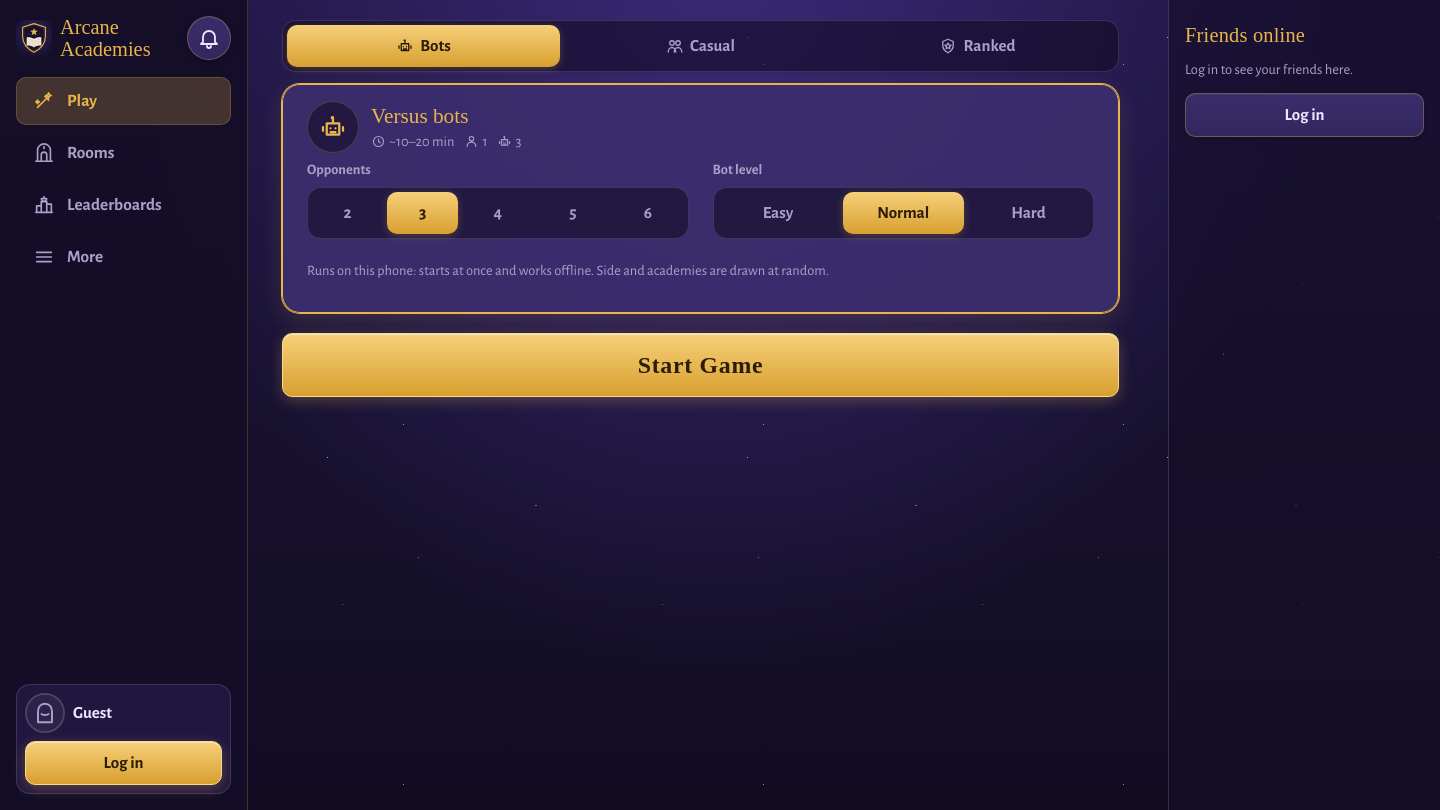
Test: Play tab › Bots: picks 4 opponents and Hard, starts offline with the side + academy draw
Click the radio button labelled "4": point(498, 213) [462,192,533,234]
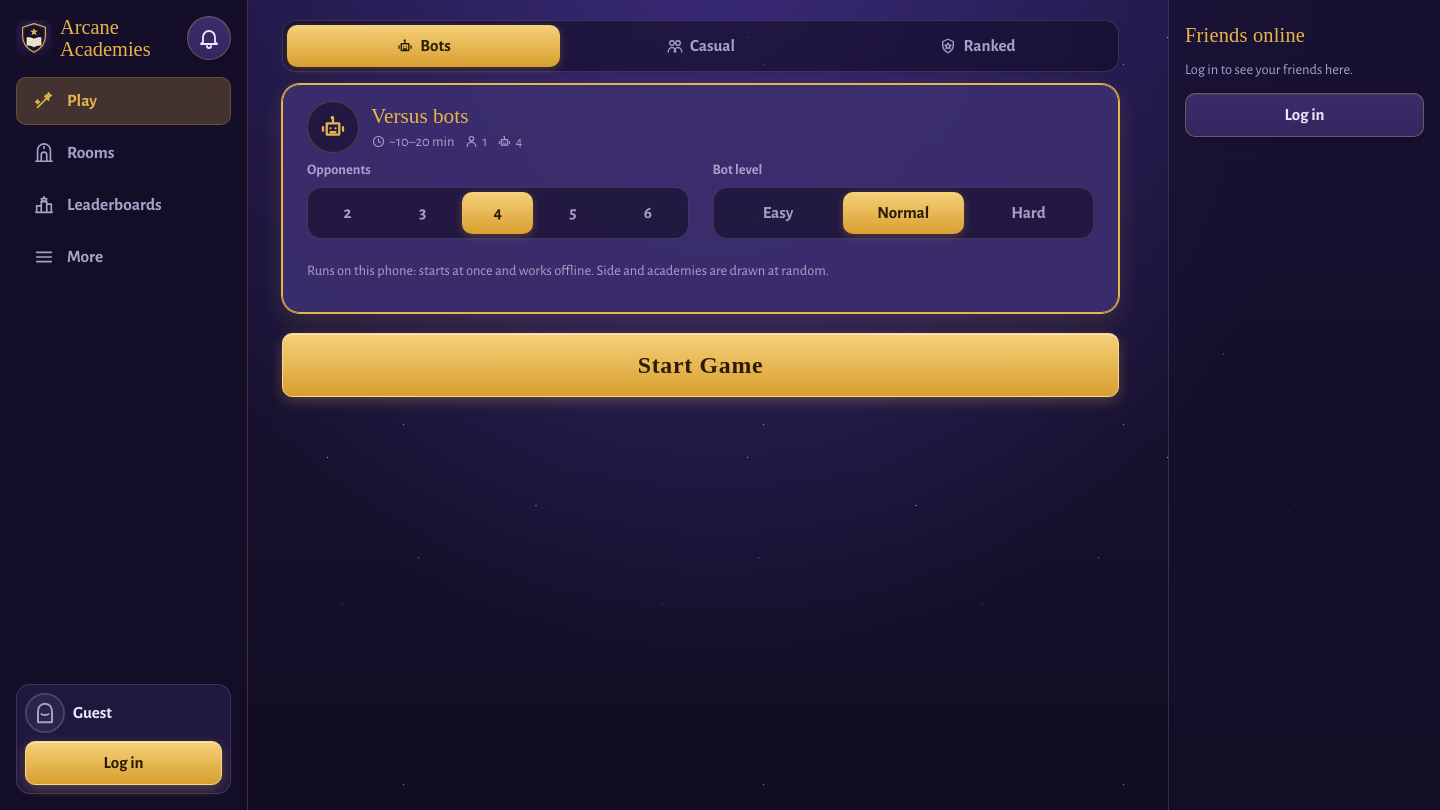
Click the radio button labelled "Hard": point(1028, 213) [968,192,1089,234]
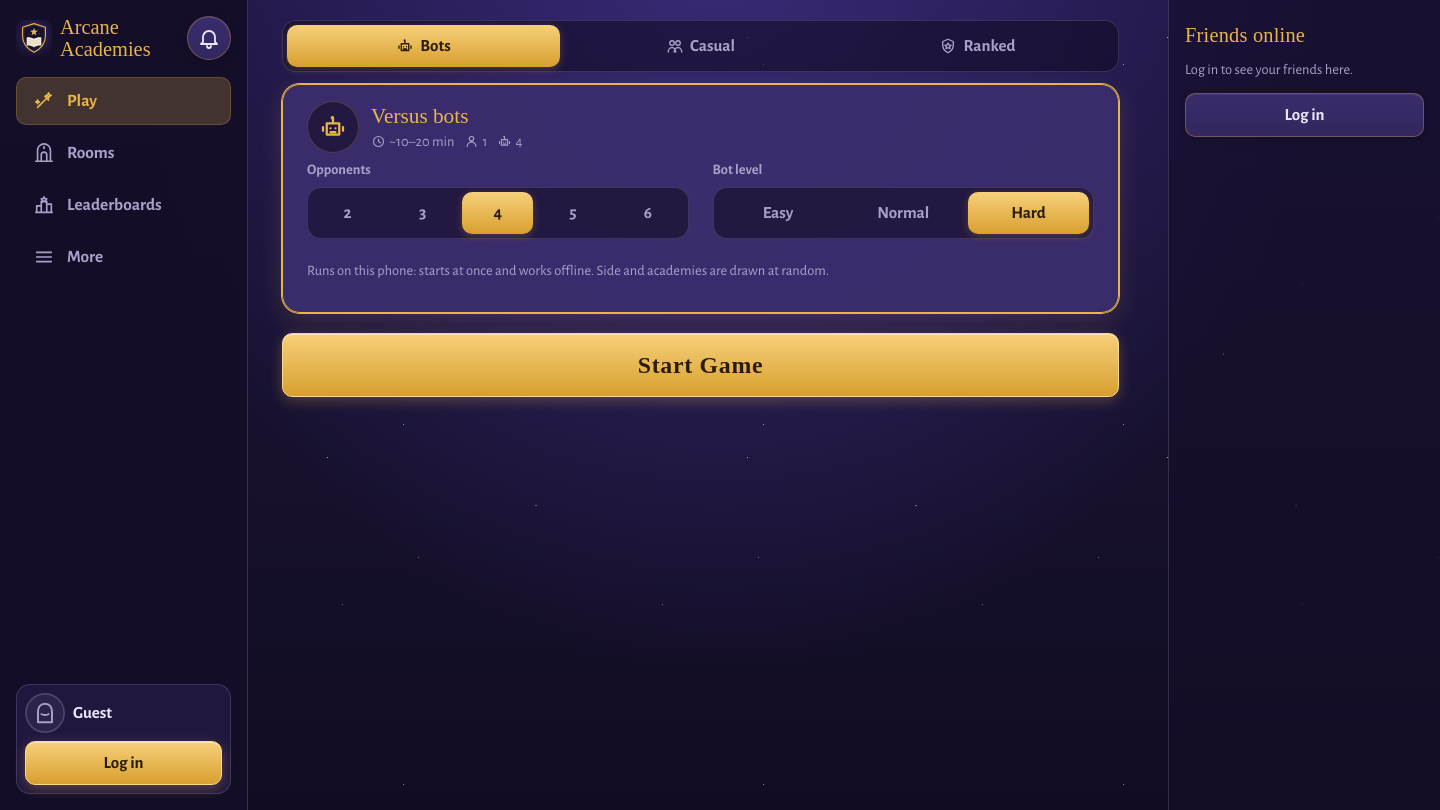
Click the button "Start Game": point(700, 365) [282,333,1119,397]
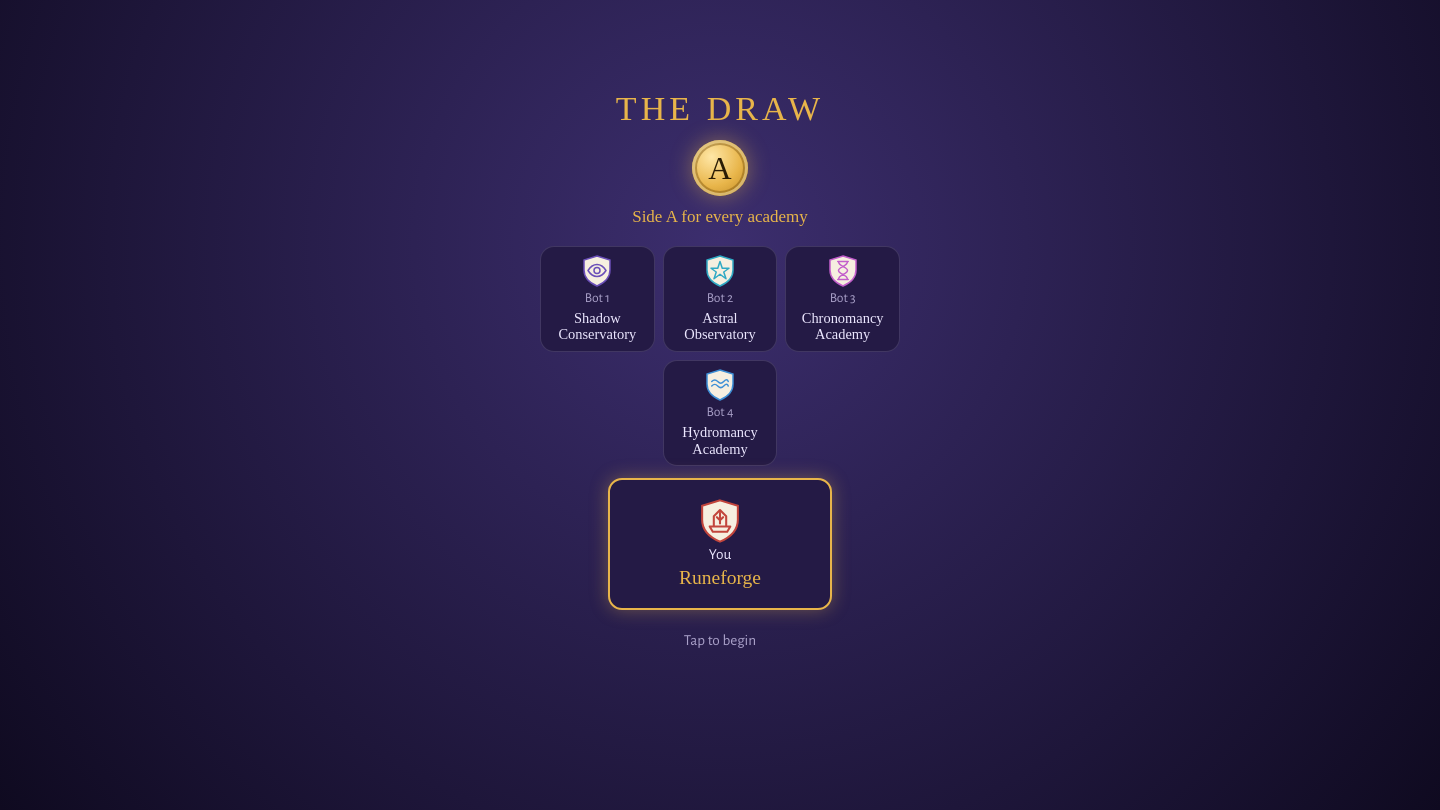
Check: the text "Side A for every academy" is shown, box [632,204,808,230]
Click the dialog "The draw": point(86, 405) [0,0,1439,809]
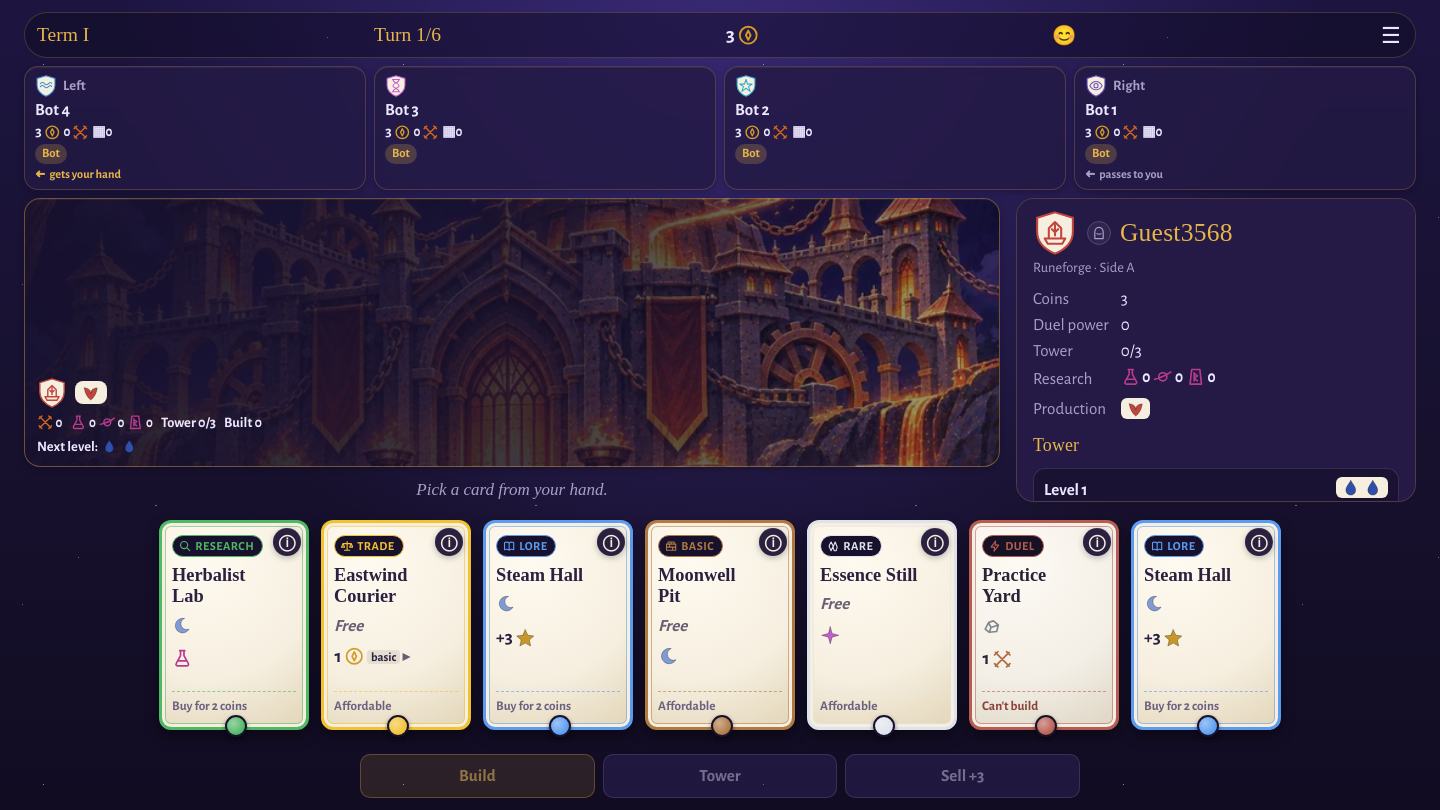
Check: the text "Term I" is shown, box [37,24,89,46]
Check: the heading "The draw" is gone
